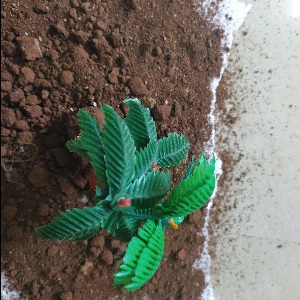plant: (37, 99, 228, 292)
